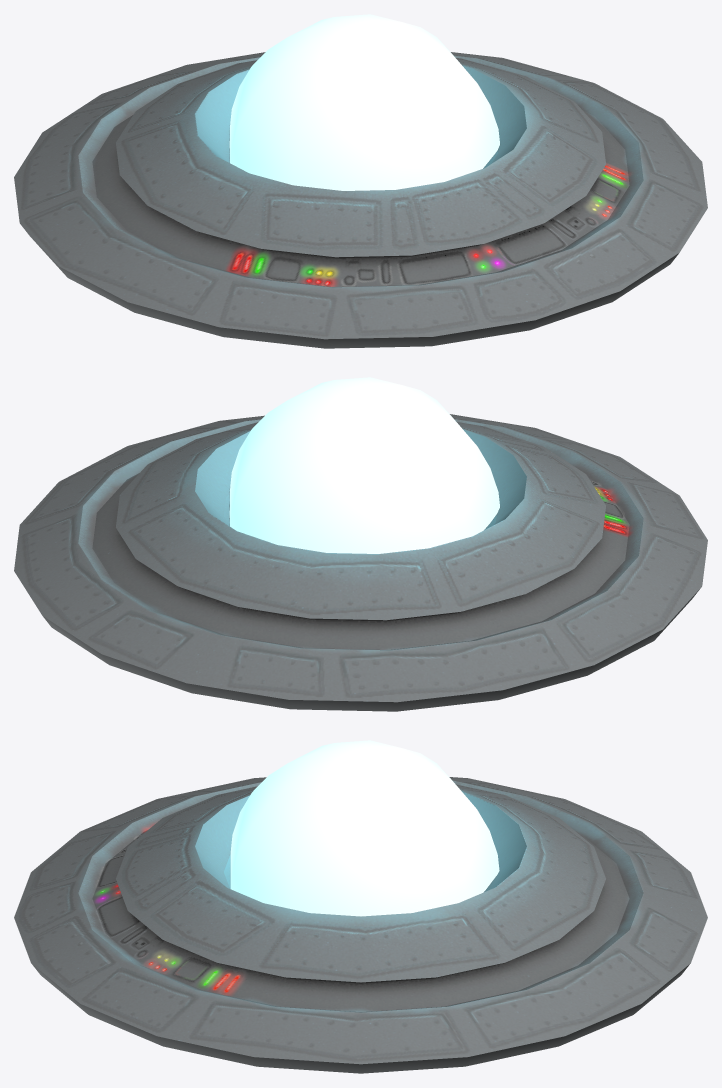
The model's file is ufo.glb.
3 renders of one model, top to bottom at view 1: azimuth 30°, elevation 25°; view 2: azimuth 150°, elevation 25°; view 3: azimuth 270°, elevation 25°, orthographic.
Visible parts, largest first — view 1: Sphere; view 2: Sphere; view 3: Sphere.
Boxes of the visible parts, x1,y1,x2,y2 form: Sphere: [14, 14, 707, 348]; Sphere: [14, 377, 707, 711]; Sphere: [14, 740, 707, 1073].
Size of the model in its own units: 2 by 0.7063 by 2.
Materials: 2 (1 with a texture image).
